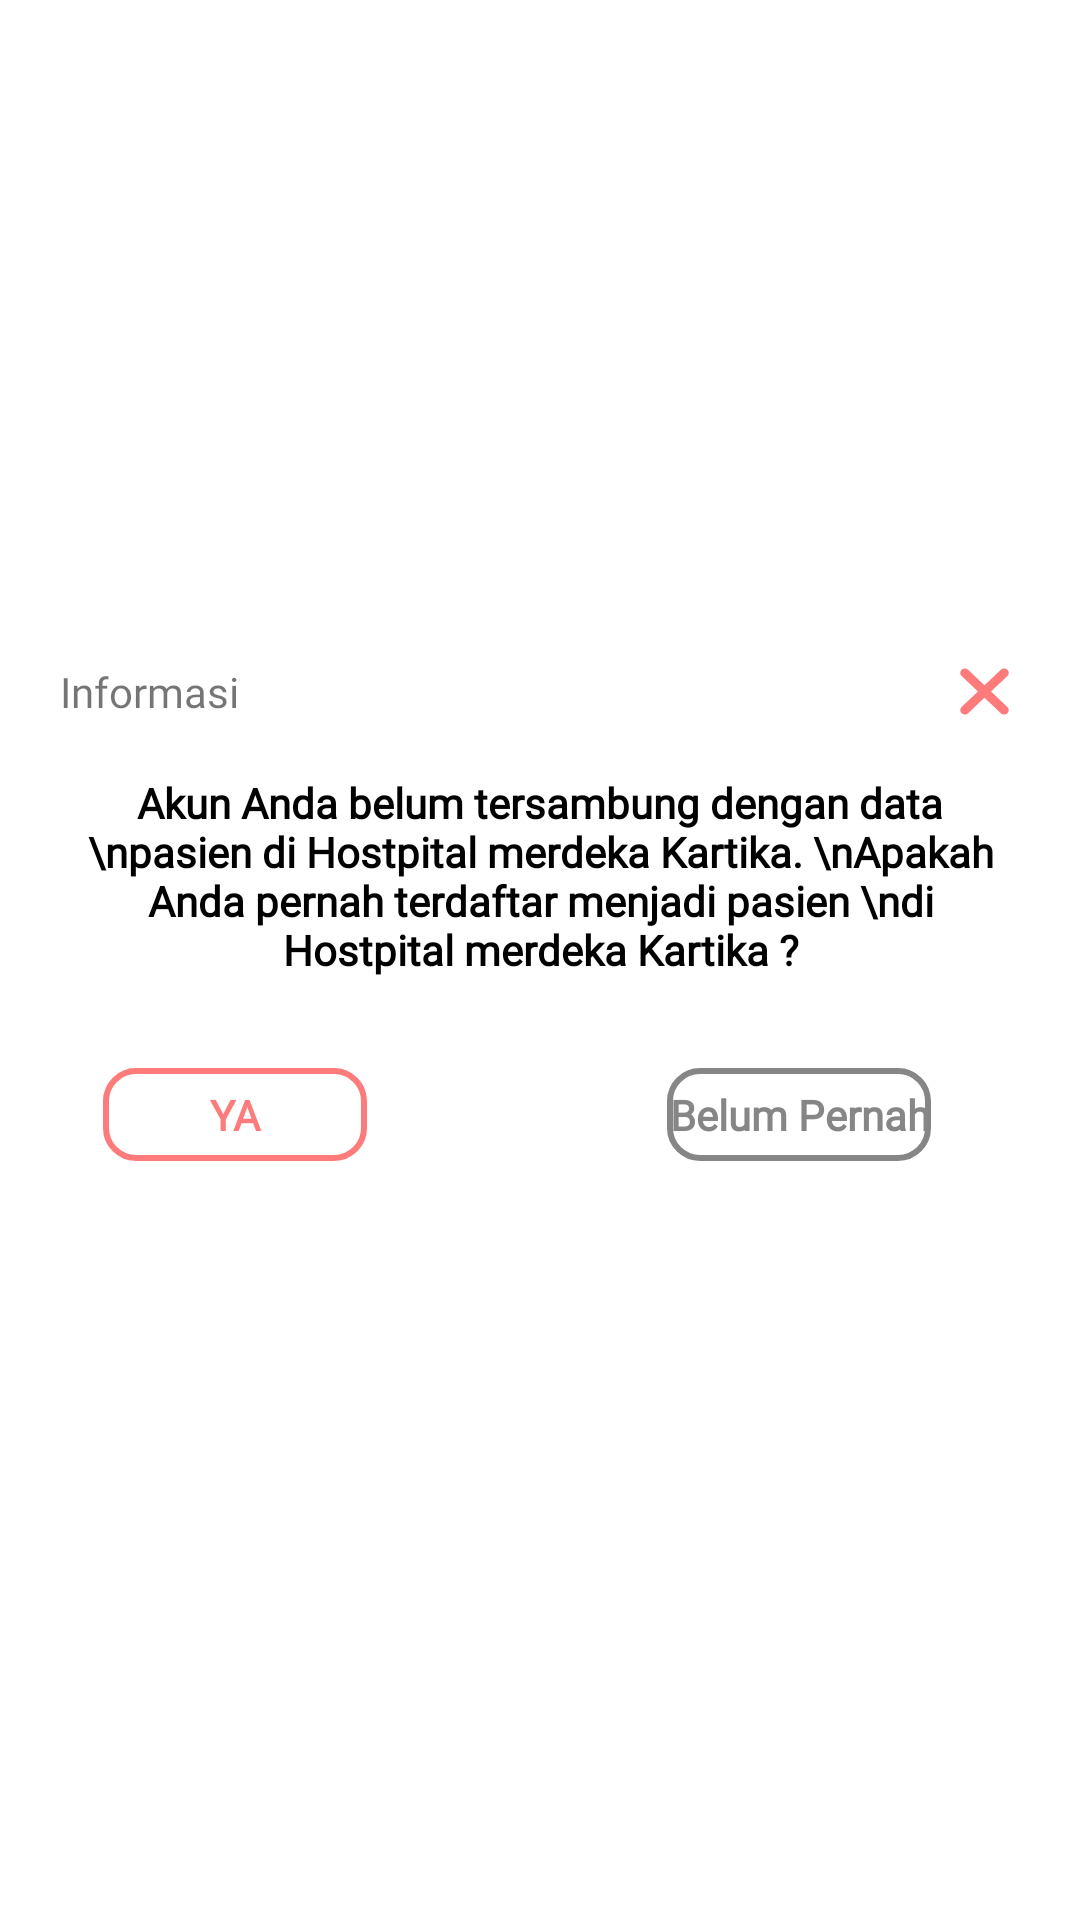

Screen size 1080 x 1920. Icon name, then its box in pixels as (x1, y1, x2, y2):
multiply: (960, 668, 1009, 715)
